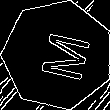M_W: (27, 27, 88, 83)
